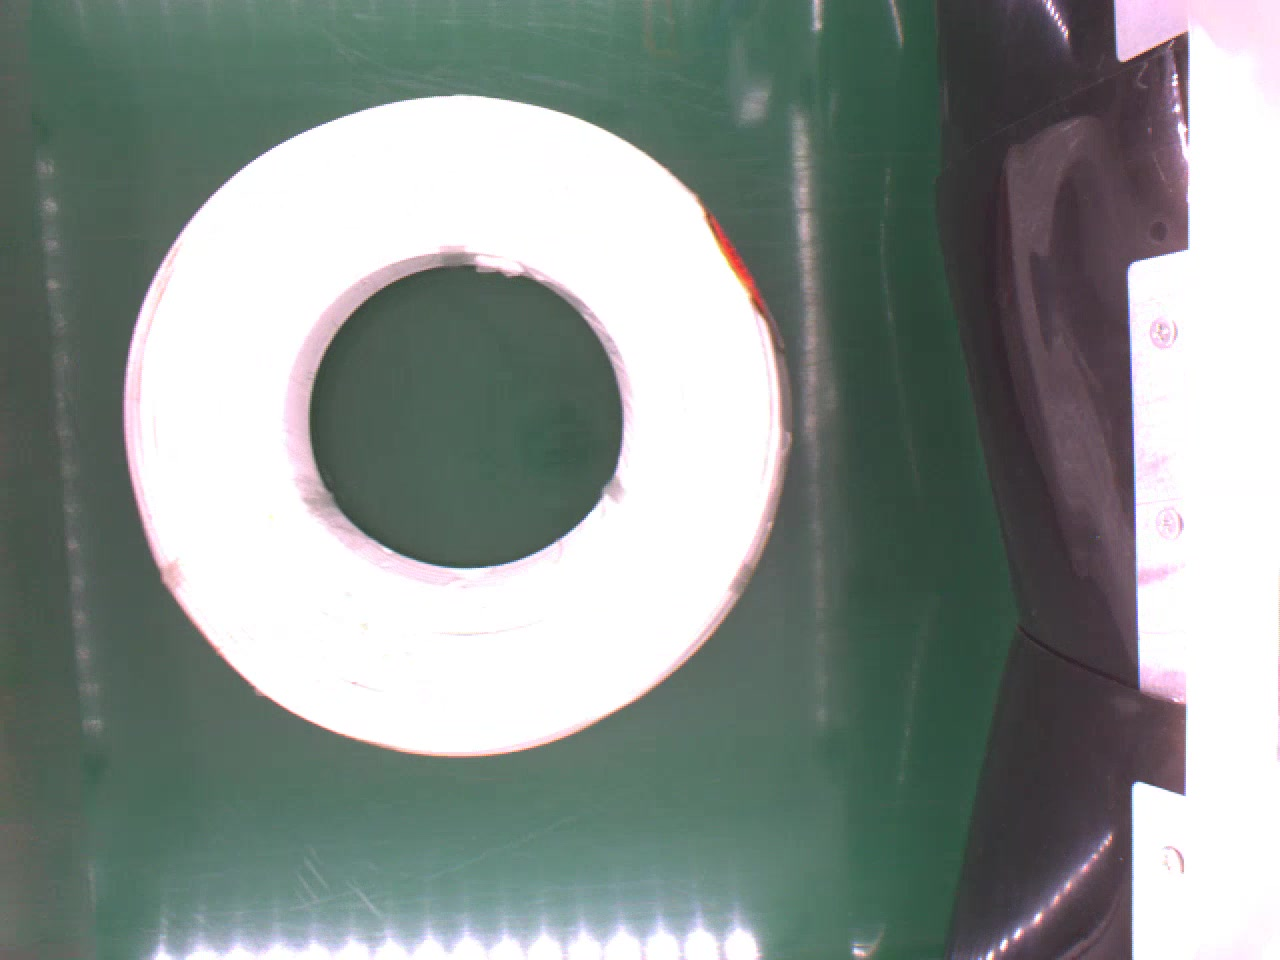white: (120, 88, 810, 763)
